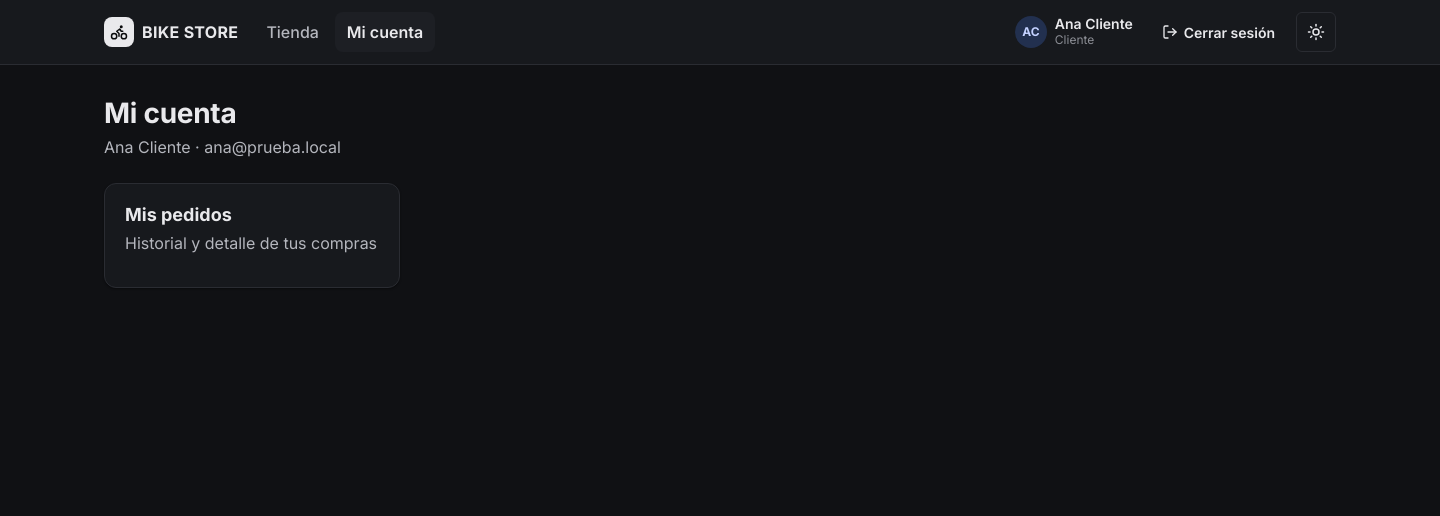
Scenario: Acceso › desde Mi cuenta, la tarjeta 'Mis pedidos' lleva al listado
The width and height of the screenshot is (1440, 516).
Click the link "Mis pedidos".
click(178, 214)  # box [125,204,232,225]
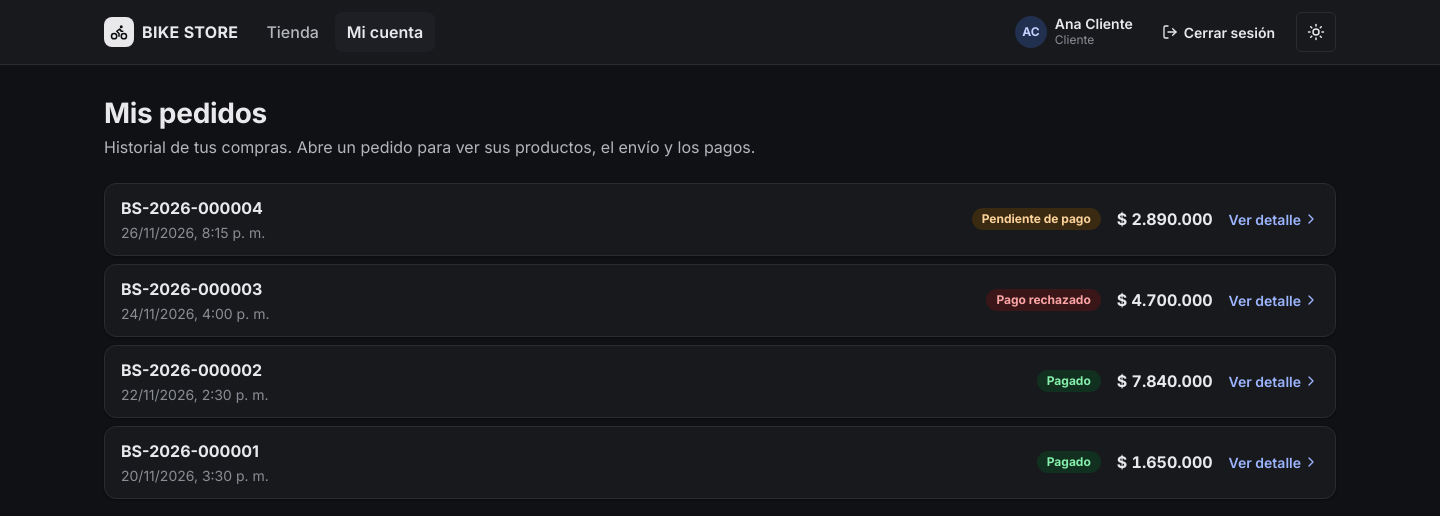
Check: the heading "Mis pedidos" is shown, box [104,96,267,130]
